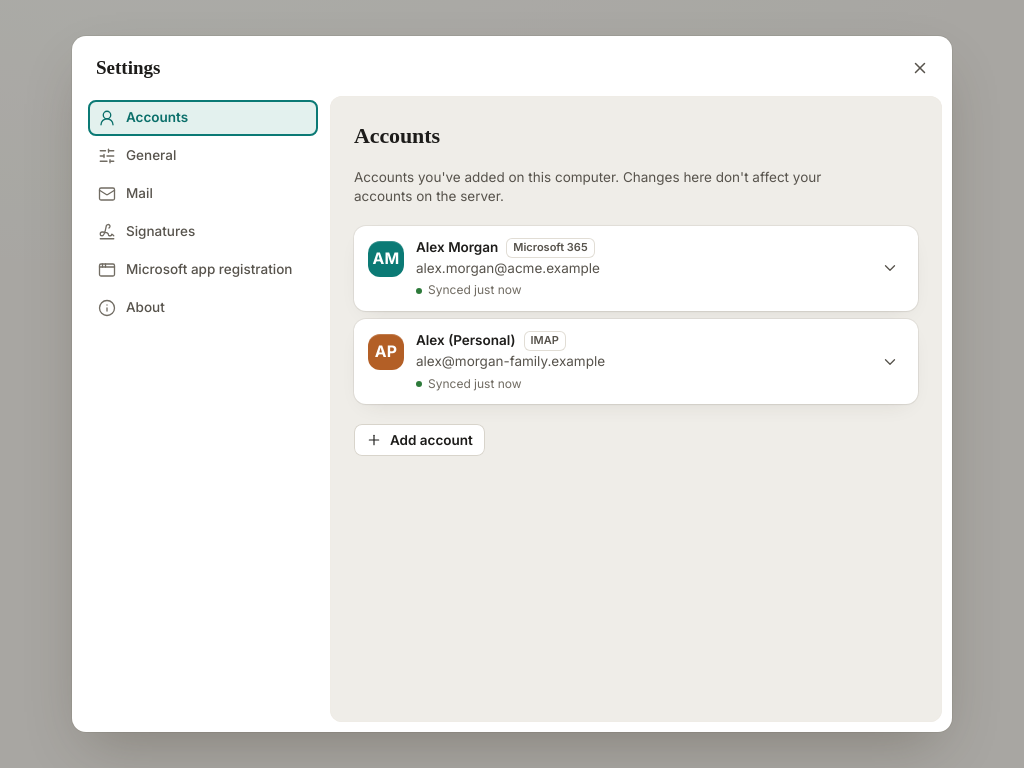
Accounts › undoes an unsaved rename with Escape
Click the button named "Manage Alex Morgan".
click(890, 268)  # box [874,252,906,284]
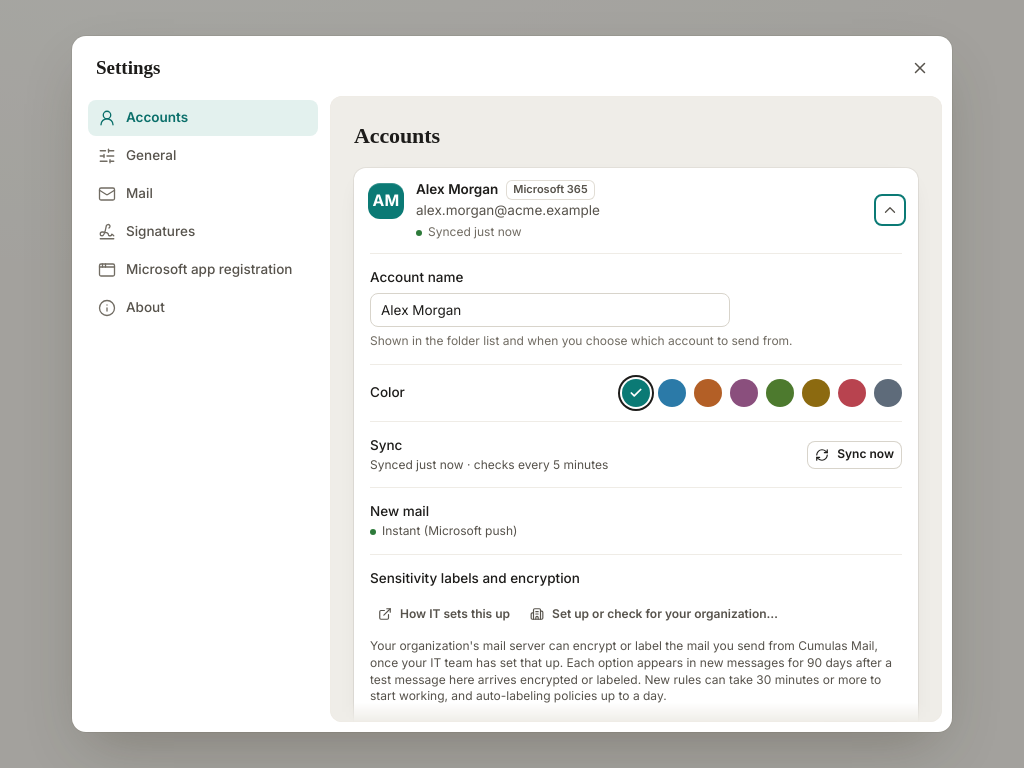
Type " (work)" into the field labelled "Account name".
click(550, 310); type(" (work)")  # box [370,293,730,327]
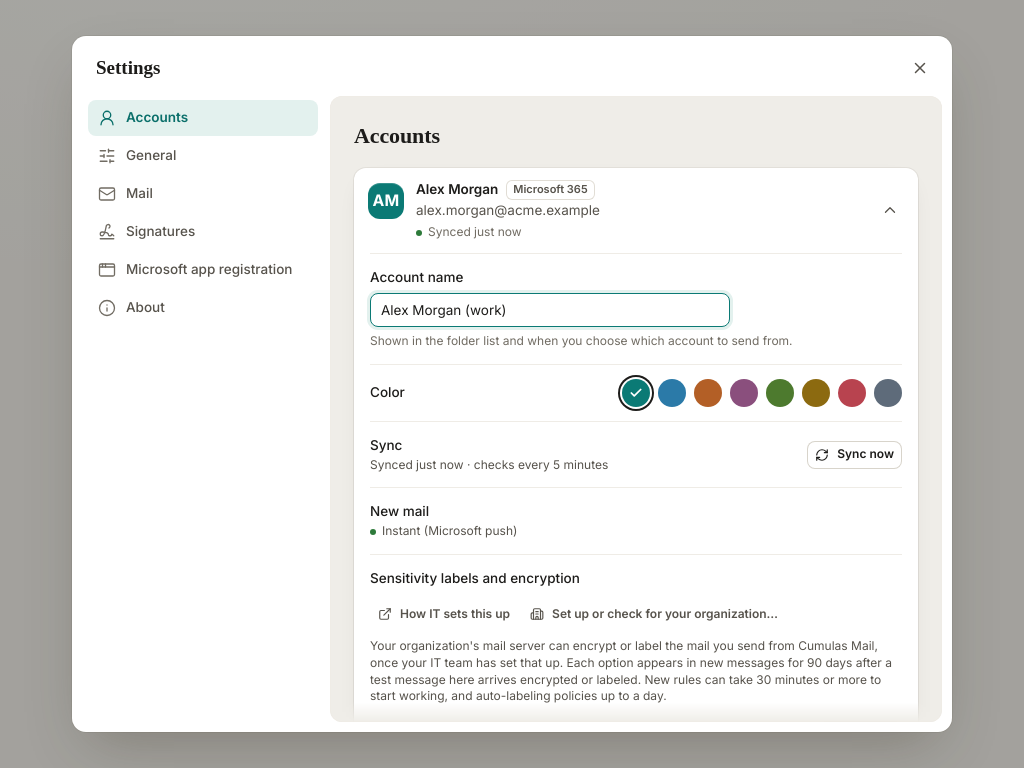
Press Escape
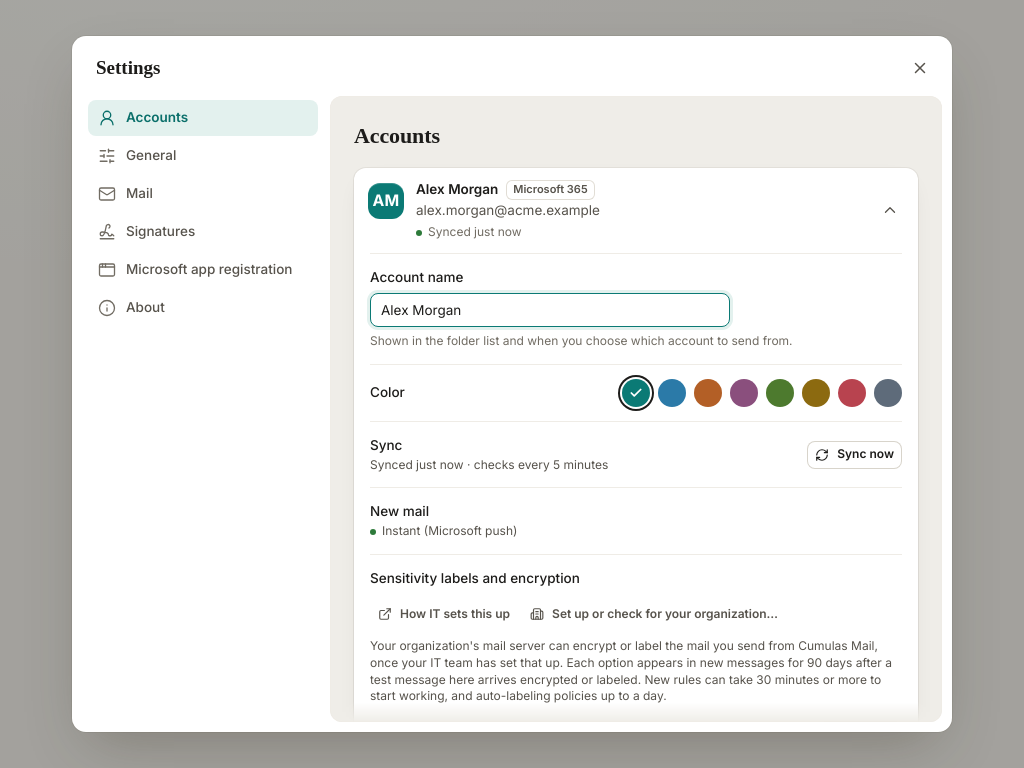
Expected: the field labelled "Account name" holds "Alex Morgan", [370,293,730,327]
